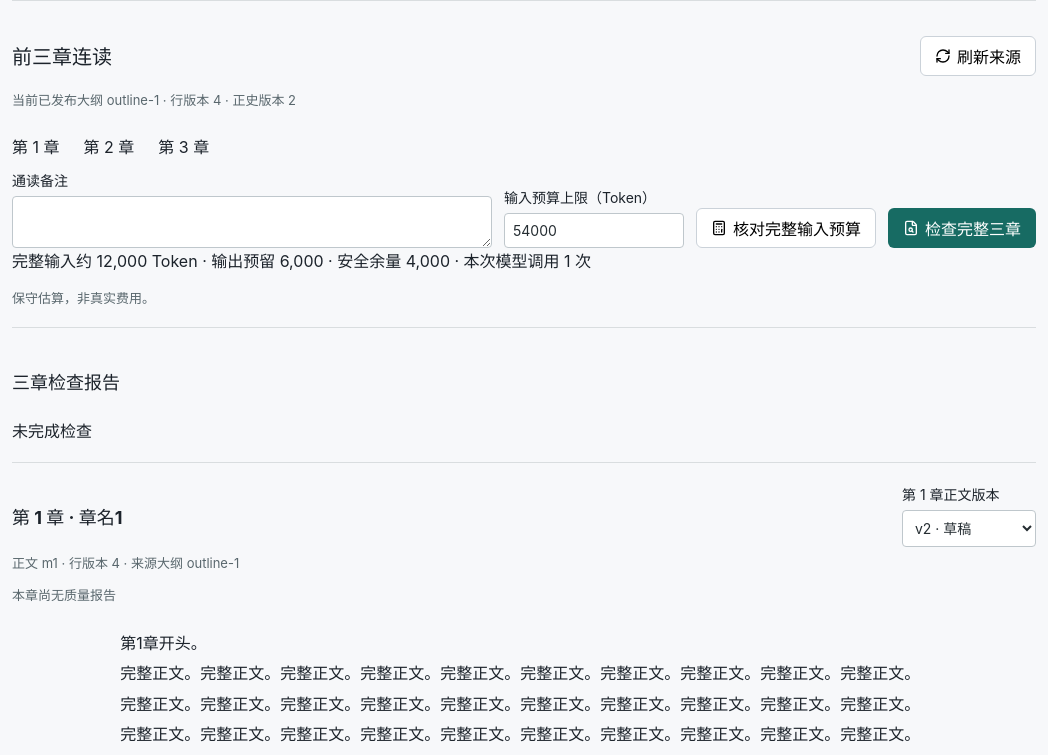
it: FirstThreeChaptersPanel › requires a refreshed budget when author instruction changes
Type "检查因果" into the text box labelled "通读备注" at (252, 222), box [12, 196, 492, 248]
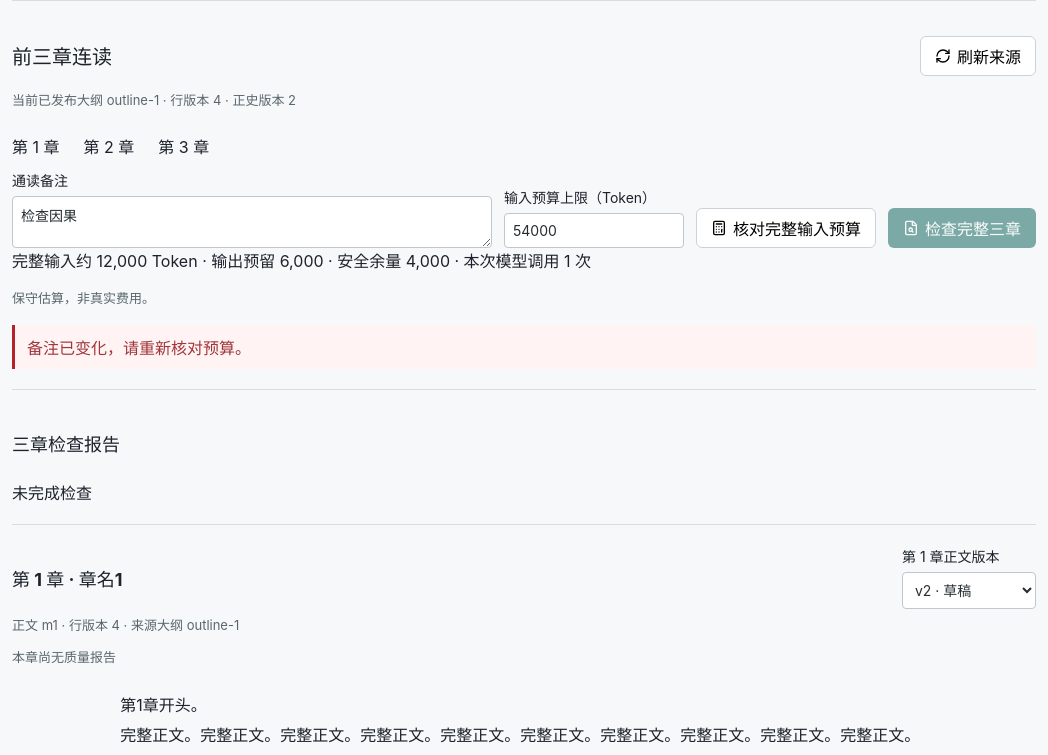
Expected: the button "检查完整三章" is disabled, [888, 208, 1036, 248]
Click the button "核对完整输入预算" at (786, 228), box [696, 208, 876, 248]
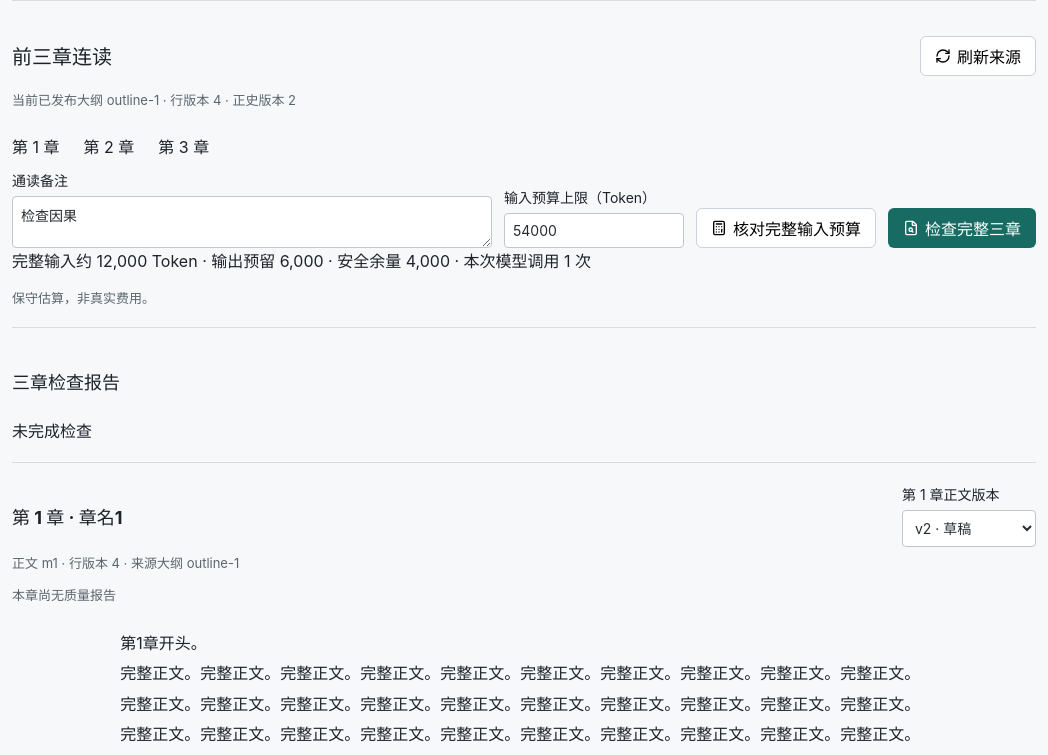
Expected: the button "检查完整三章" is enabled, [888, 208, 1036, 248]
